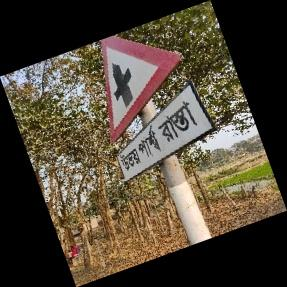Crossroad: (102, 34, 214, 179)
